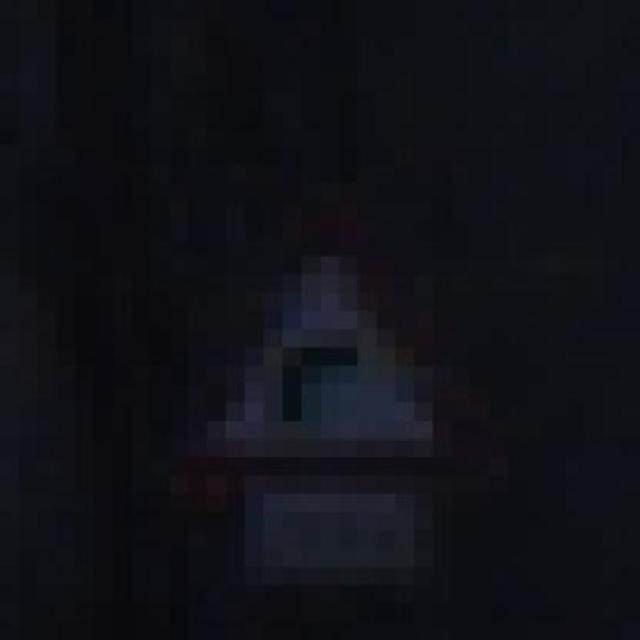Dangerous Rright Curve Ahead: (151, 183, 489, 494)
